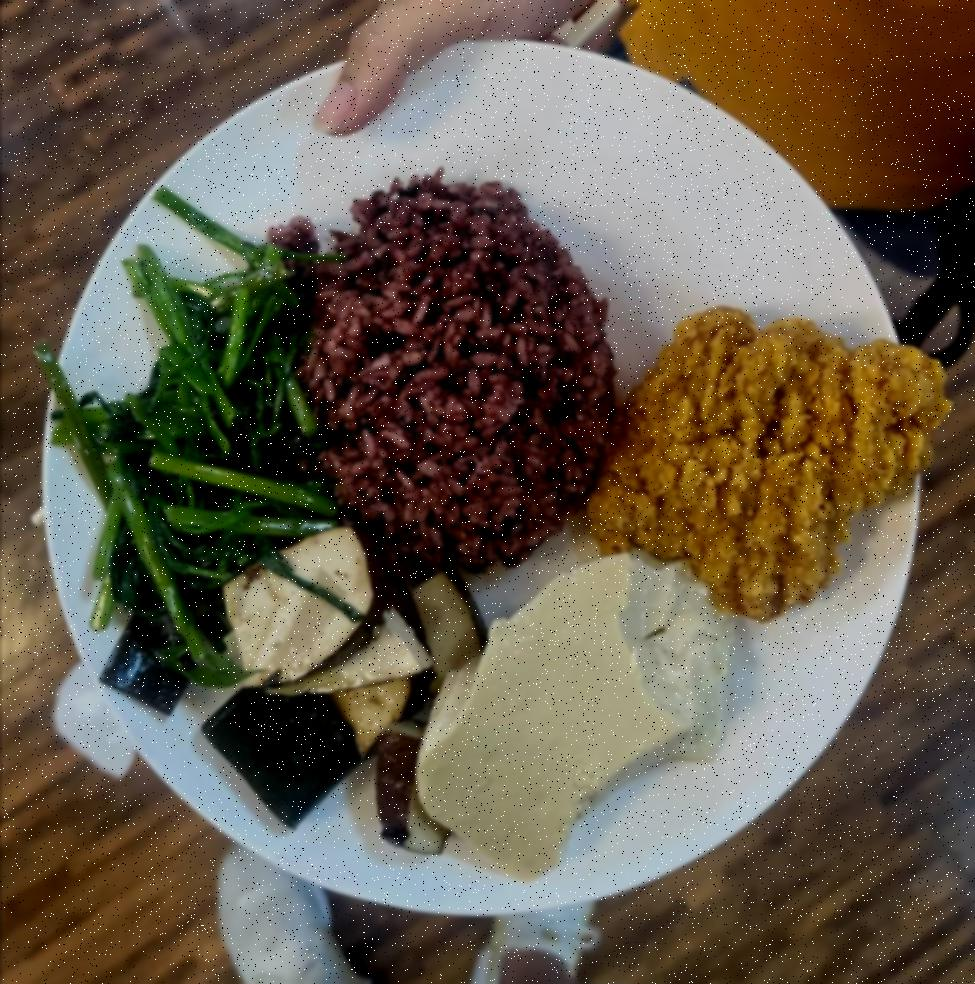kara chicken leg steak: (588, 304, 948, 616)
plate: (25, 25, 938, 910)
purple rice: (264, 168, 620, 572)
side dish: (64, 238, 304, 675), (418, 546, 734, 866), (218, 516, 474, 850)
